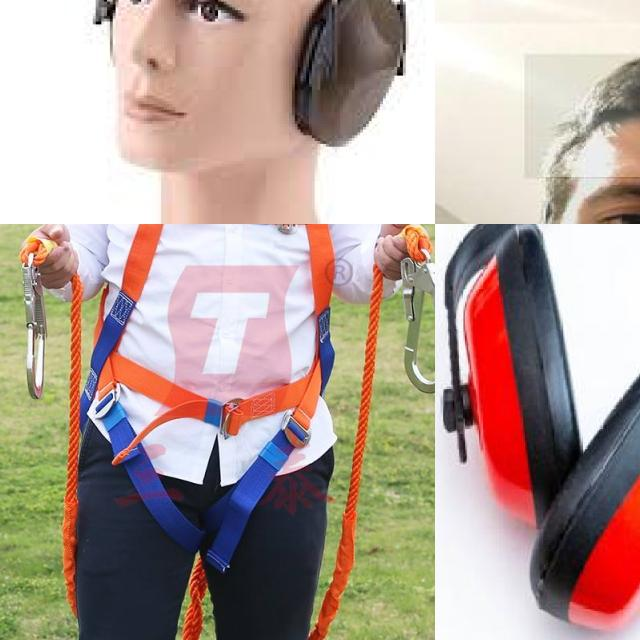Ear-protection: (435, 224, 640, 602), (289, 0, 405, 146)
Harness: (74, 224, 337, 587)
head_nohelmet: (524, 53, 640, 180)
person: (435, 23, 640, 224)
